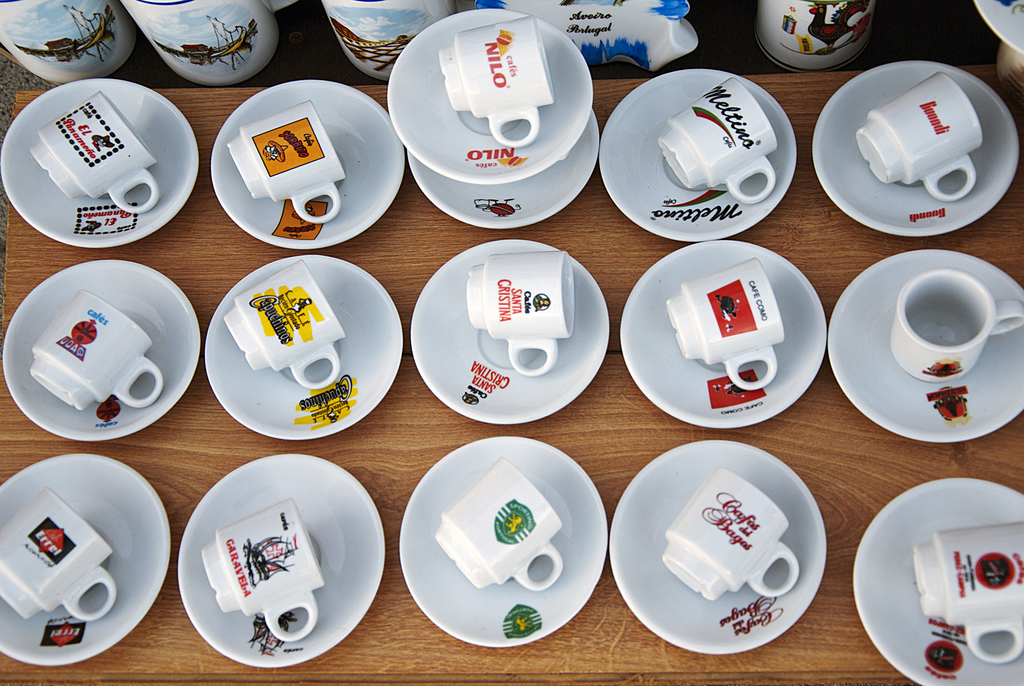plate: (398, 436, 608, 643)
